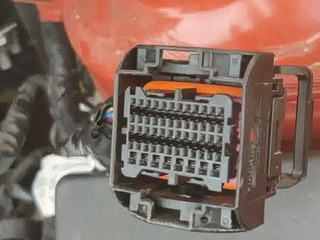connector: (110, 44, 296, 233)
